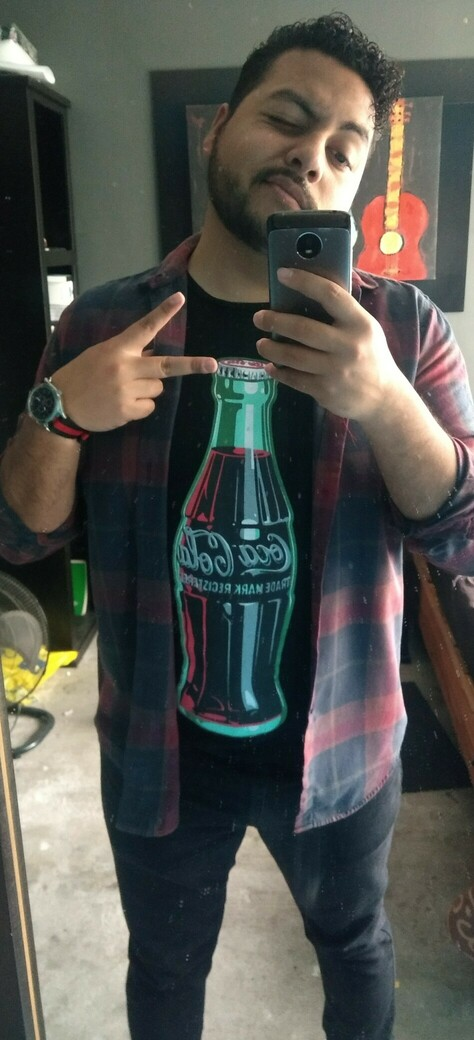Yoshi: (142, 1, 413, 271)
